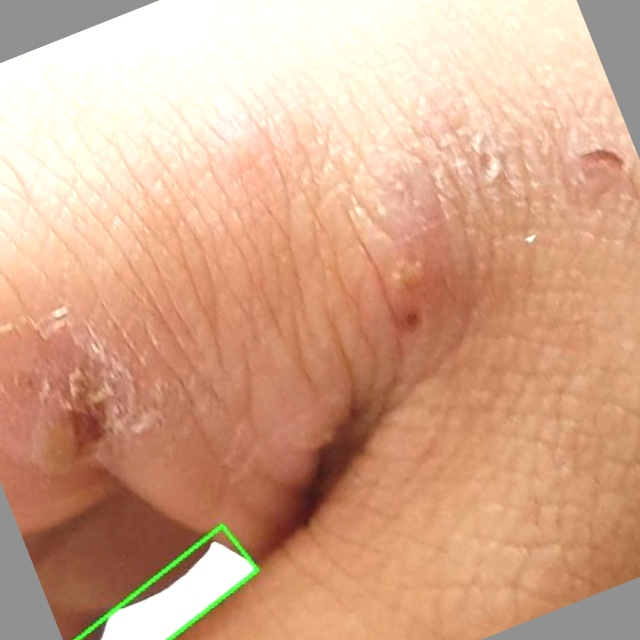Scabies: (83, 525, 259, 639)
